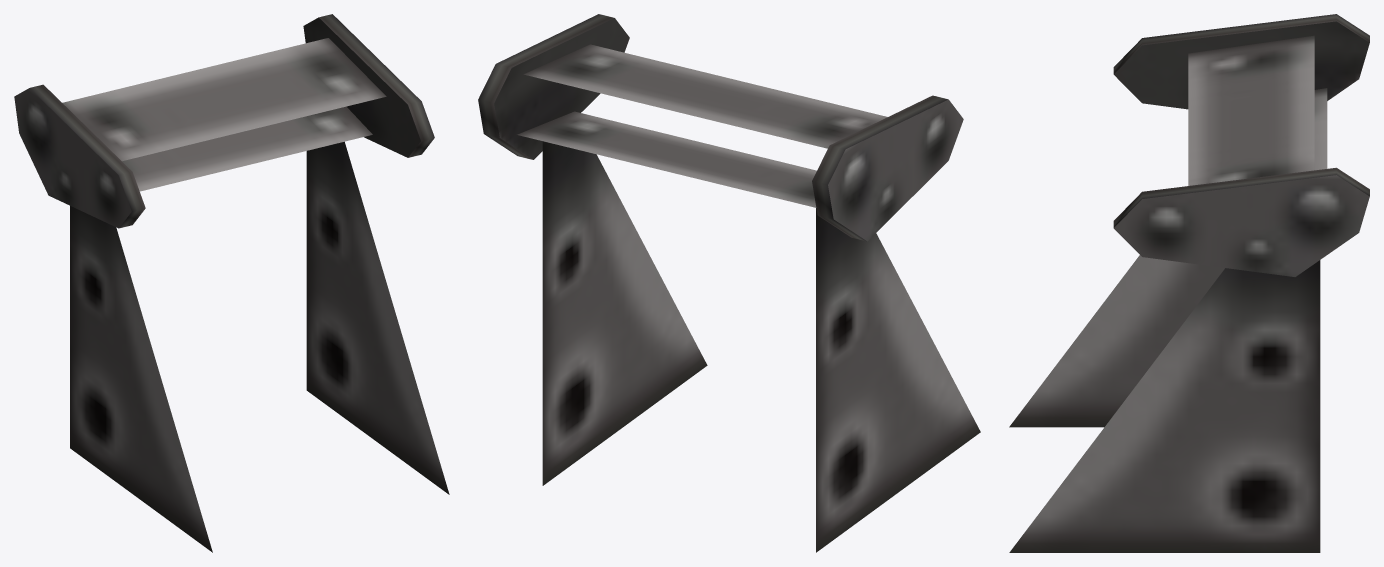
The model's file is acc_11.glb.
The picture shows the model from 3 angles, left to right: view 1: azimuth 30°, elevation 25°; view 2: azimuth 150°, elevation 25°; view 3: azimuth 270°, elevation 25°; orthographic projection. The views are drawn at different scales.
Parts seen in each view (by area): view 1: vertex; view 2: vertex; view 3: vertex.
Part boxes in pixels (x1,y1,x2,y2): vertex: [14, 14, 449, 552]; vertex: [478, 14, 980, 552]; vertex: [1009, 14, 1369, 552].
Bounding box in the file's own units: 0.8417 × 0.9637 × 0.7966.
1 material, 1 textured.
